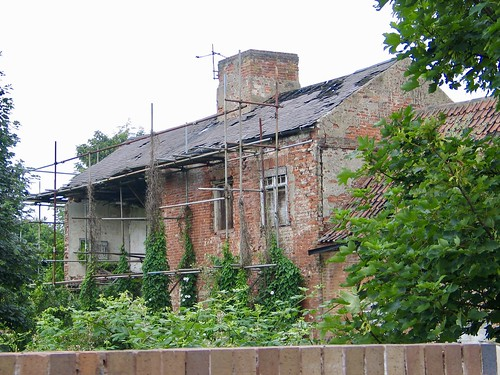building: (45, 60, 432, 332)
sky: (24, 1, 400, 146)
tree: (348, 120, 500, 375), (399, 1, 500, 89)
